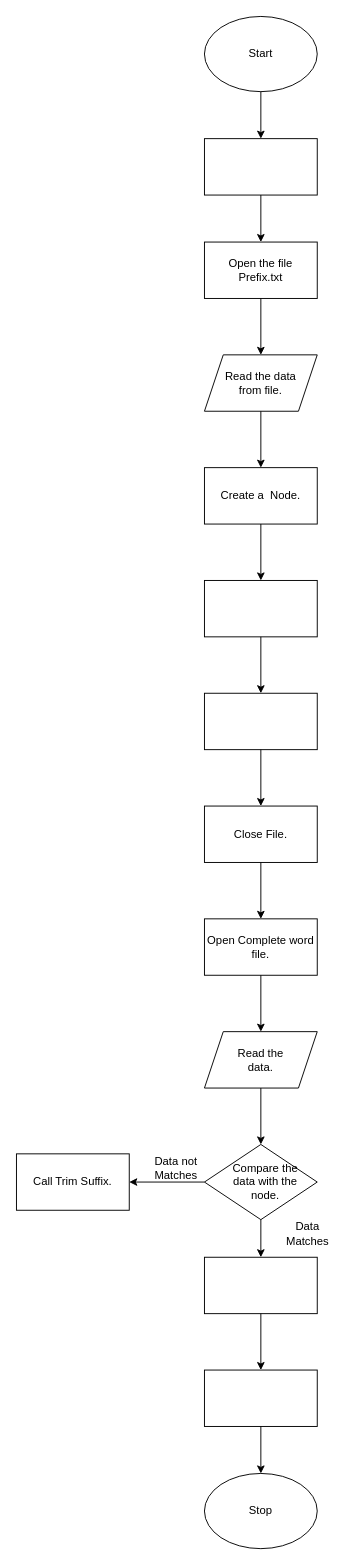
Image size: 353x1565. Some labels were removed from this diagram. Here are the shapes that lost their labels. From the top down, the box of each, then its label:
(204, 138, 317, 195): Create structure of linked list.
(204, 580, 317, 637): Insert the data into the Linked list.
(204, 692, 317, 750): Add Prefixes to the string in the Linked list.
(204, 1256, 317, 1314): Print the String n close the file.
(204, 1369, 317, 1426): Call Add suffix function.
